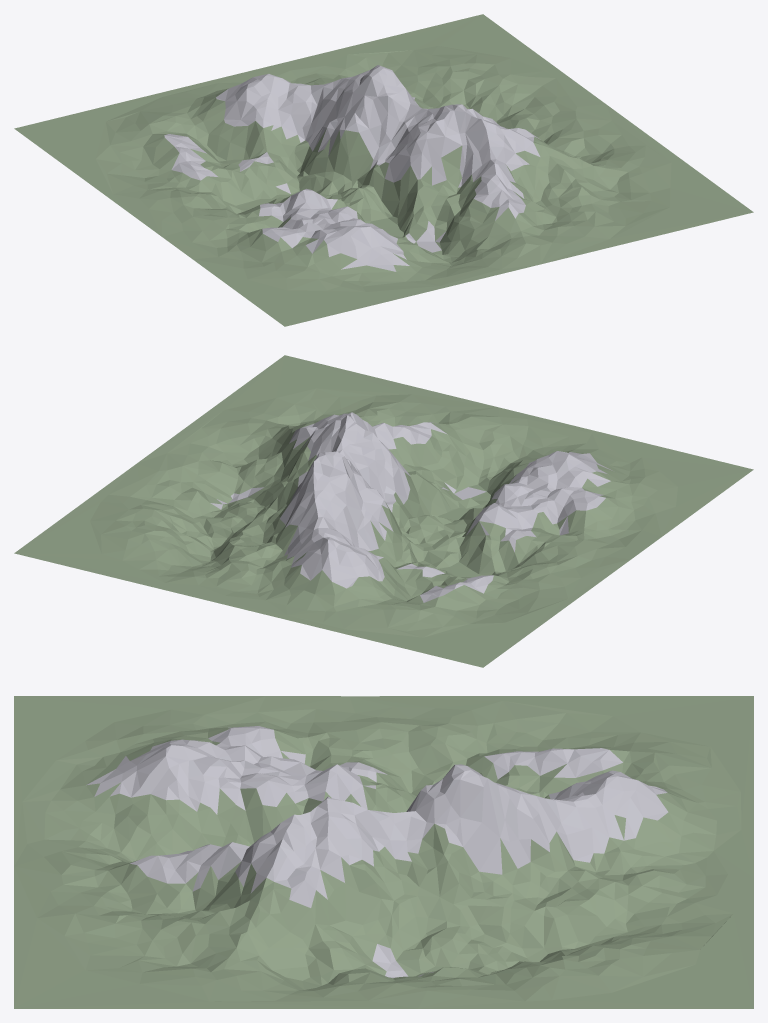
File: Low_Poly_Terrain.fbx
3 renders of one model, top to bottom at view 1: azimuth 30°, elevation 25°; view 2: azimuth 150°, elevation 25°; view 3: azimuth 270°, elevation 25°, orthographic. The views are drawn at different scales.
Visible parts, largest first — view 1: Landscape; view 2: Landscape; view 3: Landscape.
Part boxes in pixels (x1=…): Landscape: x1=14, y1=14, x2=753, y2=326; Landscape: x1=14, y1=355, x2=753, y2=667; Landscape: x1=14, y1=696, x2=753, y2=1008.
Size of the model in its own units: 200 by 40.16 by 200.
